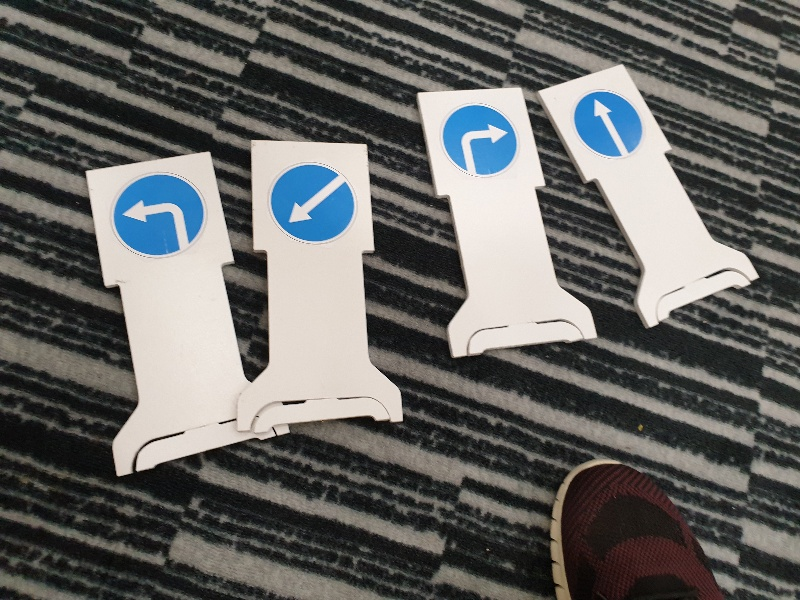Left: (106, 170, 210, 263)
Right: (436, 98, 525, 183)
forw: (568, 82, 649, 163)
prep: (260, 154, 364, 247)
